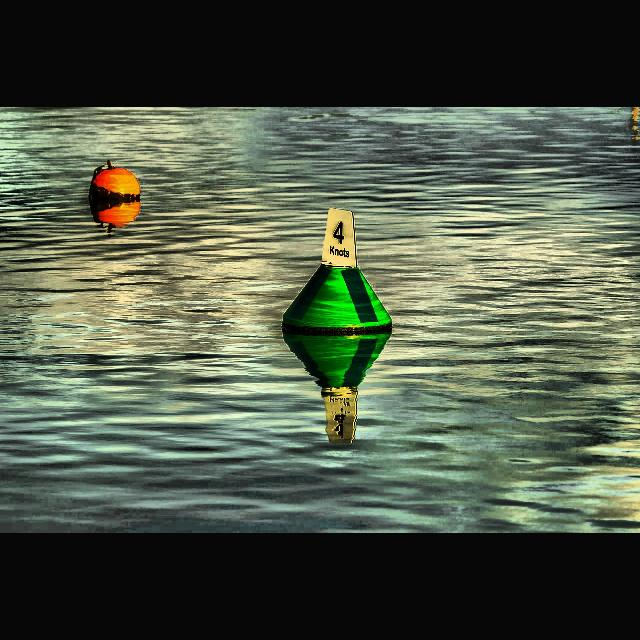buoy: (280, 206, 394, 340), (85, 156, 143, 204)
